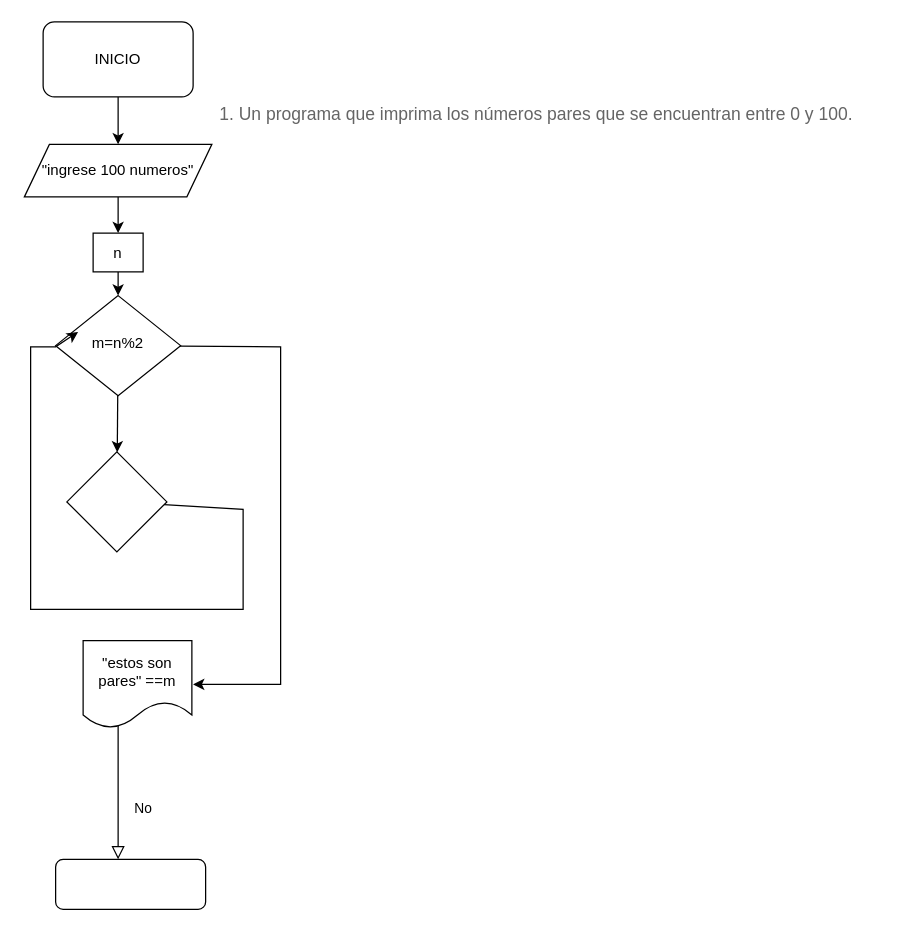
Some shapes in this 903 by 931 pixel diagram are drawn without their labels. The box of each missing label's shape, as (x1, y1, x2, y2) in pixels:
0<= m <=100: (66, 451, 167, 552)
FIN: (54, 858, 206, 909)
